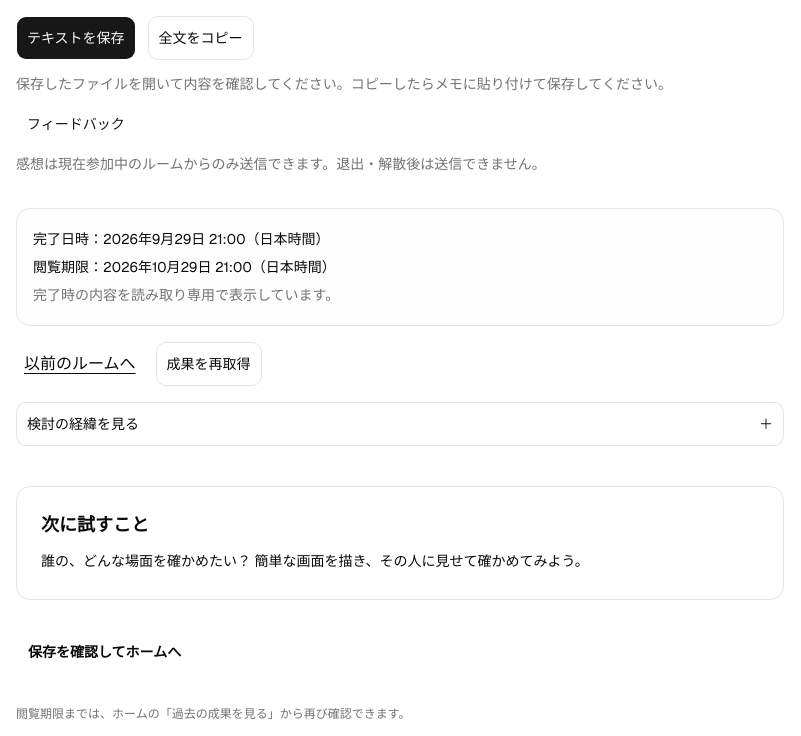
Test: 場面の401は本文と出力を隠し同じ説明を表示する
This screenshot has width=801, height=736.
Click the button "検討の経緯を見る ＋".
click(83, 424)  # box [16, 402, 784, 446]
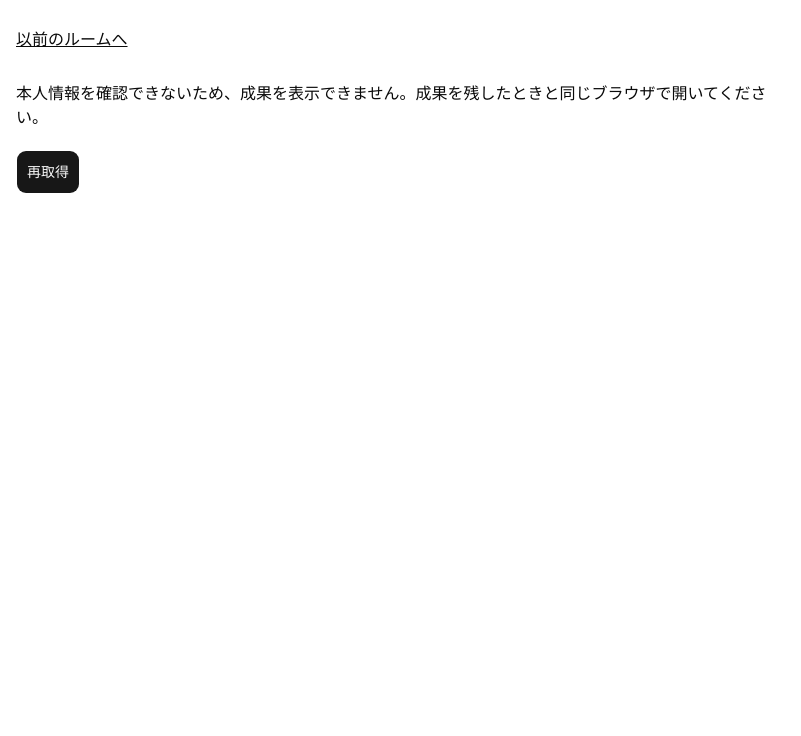
Result: the message reads "本人情報を確認できないため、成果を表示できません。成果を残したときと同じブラウザで開いてください。" at [16, 83, 767, 128]
Result: the button "全文をコピー" is gone
Result: the button "テキストを保存" is gone
